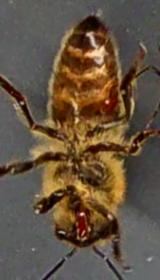varroa_mite: (92, 83, 128, 119)
